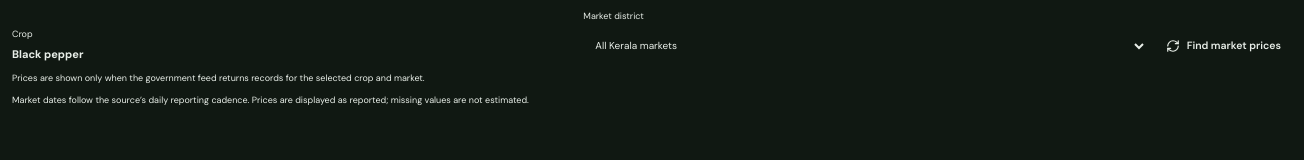
Test: MarketWorkspace › shows provider errors and offers a retry without inventing prices
The image size is (1304, 160).
Step 1. Click the button "Find market prices" → (1223,46), box [1155,30,1292,62]
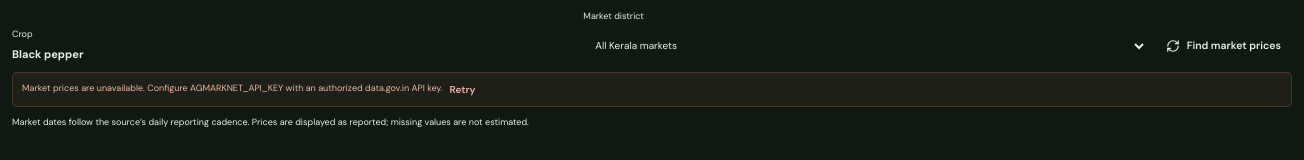
Expected: the message shows "AGMARKNET_API_KEY", [22,82,442,94]
Expected: the button "Retry" is shown, [450,82,475,96]
